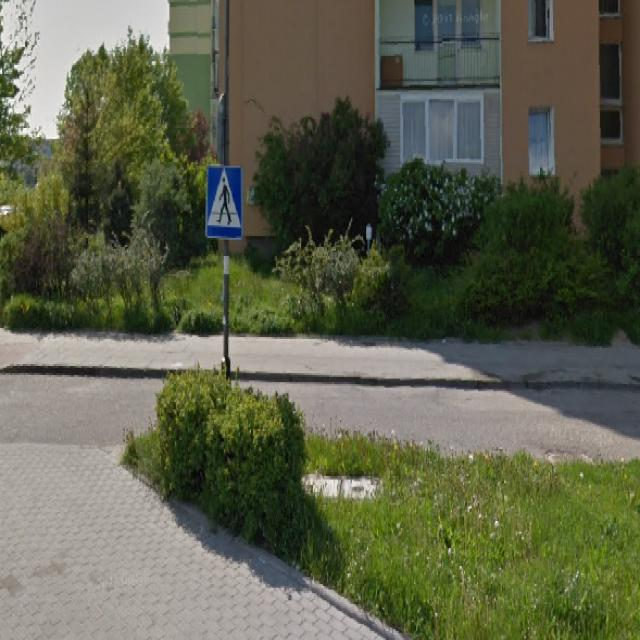Przejscie dla pieszych: (205, 162, 242, 240)
